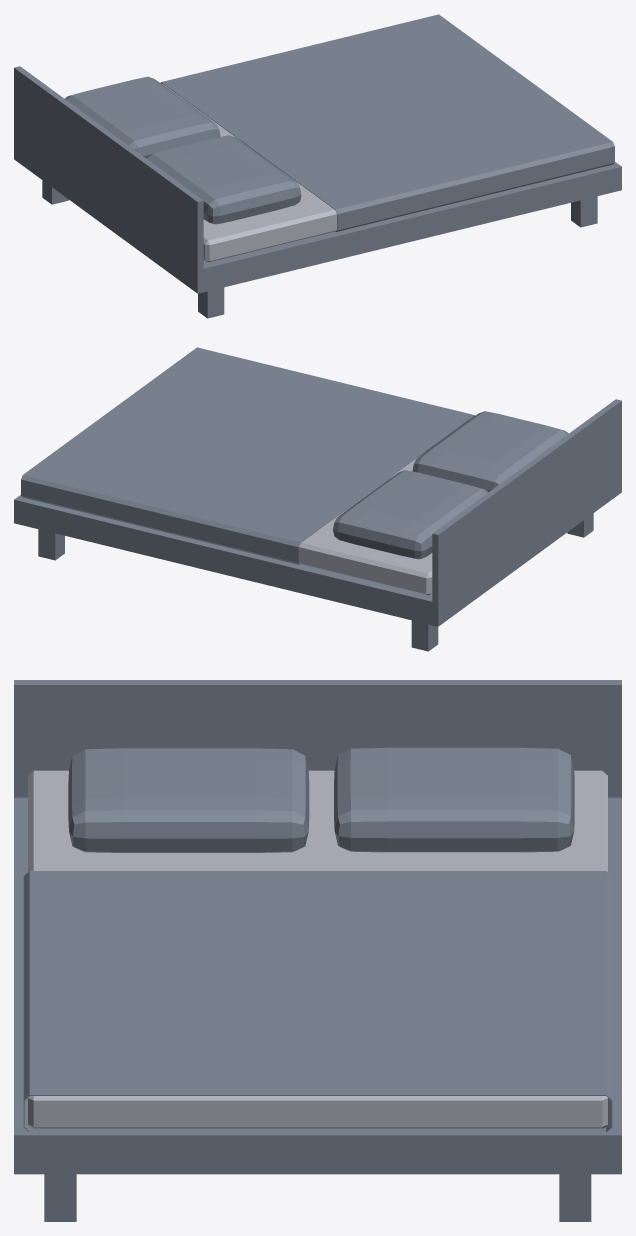
The model's file is LitComplet.fbx.
3 views of the same model, one above another, from view 1: azimuth 30°, elevation 25°; view 2: azimuth 150°, elevation 25°; view 3: azimuth 270°, elevation 25° (orthographic). The views are drawn at different scales.
Parts seen in each view (by area): view 1: Lit; view 2: Lit; view 3: Lit.
Boxes of the visible parts, x1,y1,x2,y2 form: Lit: (14, 14, 621, 318); Lit: (14, 347, 621, 651); Lit: (14, 680, 621, 1221).
Bounding box in the file's own units: 800 × 230 × 600.
